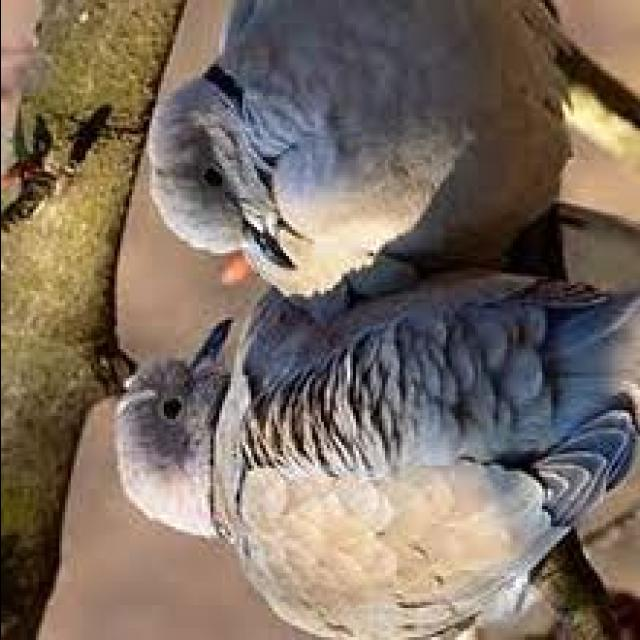pigeon: (99, 0, 635, 308)
